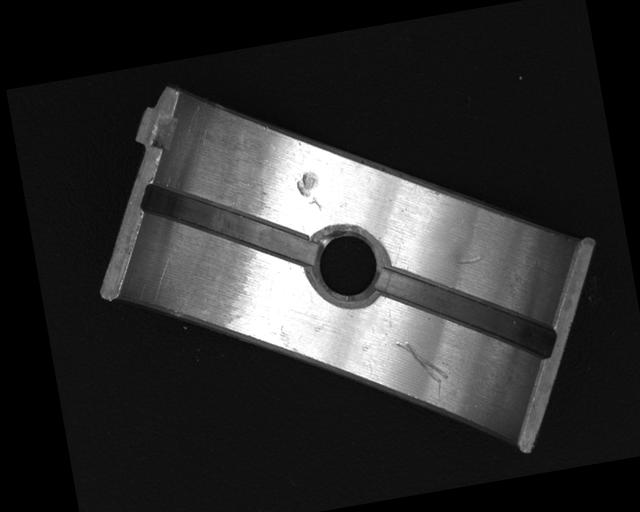bruise: (294, 168, 323, 214)
gap: (376, 242, 560, 384), (140, 159, 316, 293)
hole: (305, 220, 395, 309)
nick: (395, 331, 450, 390), (454, 256, 483, 266)
